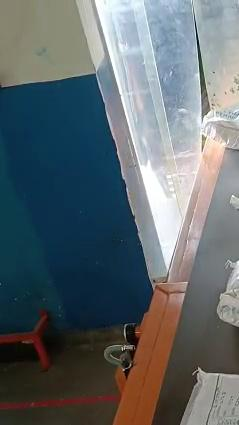box: (178, 370, 239, 425), (202, 106, 239, 149), (217, 260, 239, 327), (230, 194, 239, 211)
